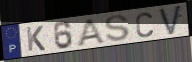6: (52, 20, 74, 51)
A: (76, 17, 107, 46)
C: (135, 11, 155, 39)
K: (25, 24, 47, 53)
S: (104, 14, 131, 42)
V: (157, 3, 184, 37)
